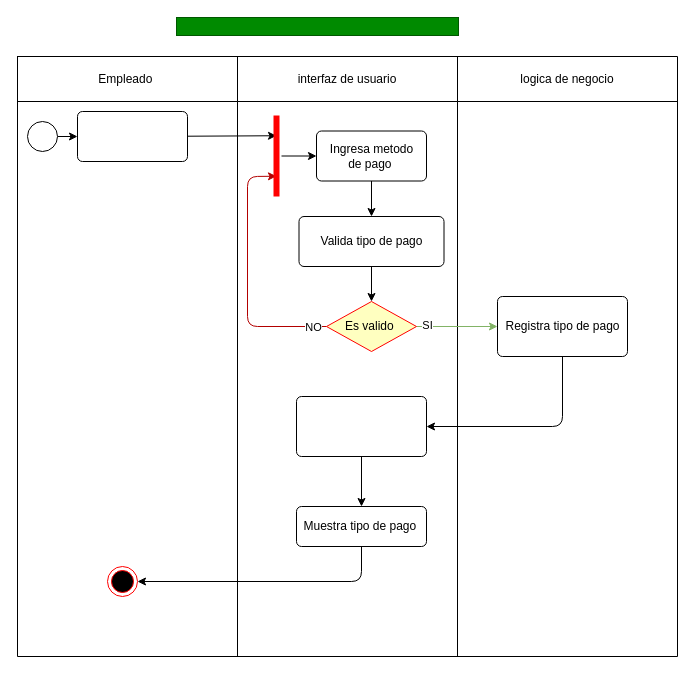
Some shapes in this 695 by 674 pixel diagram are drawn without their labels. Each missing label, with the centre of its shape:
"DAE.9.1.MUESTRA y ALMACENA TIPO DE PAGO" belongs at (317,26).
"Mensaje de confirmacion" belongs at (361,426).
"selcciona tipo de pago" belongs at (132,136).
